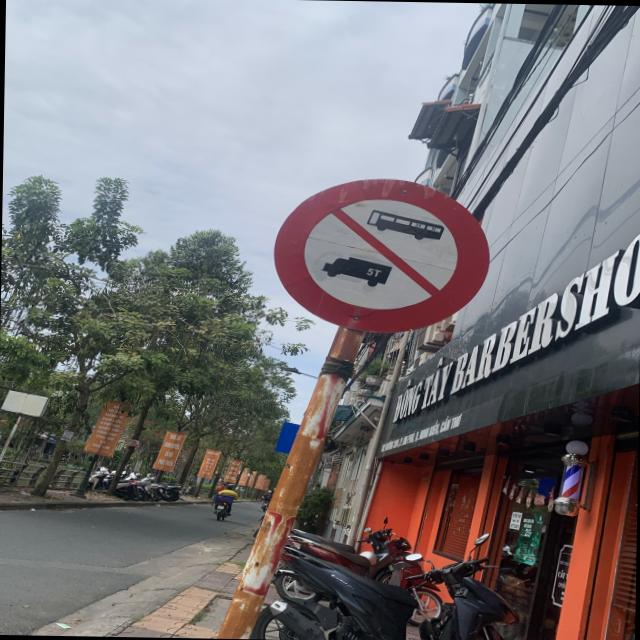Cam_XeTai_XeKhach: (273, 175, 494, 336)
